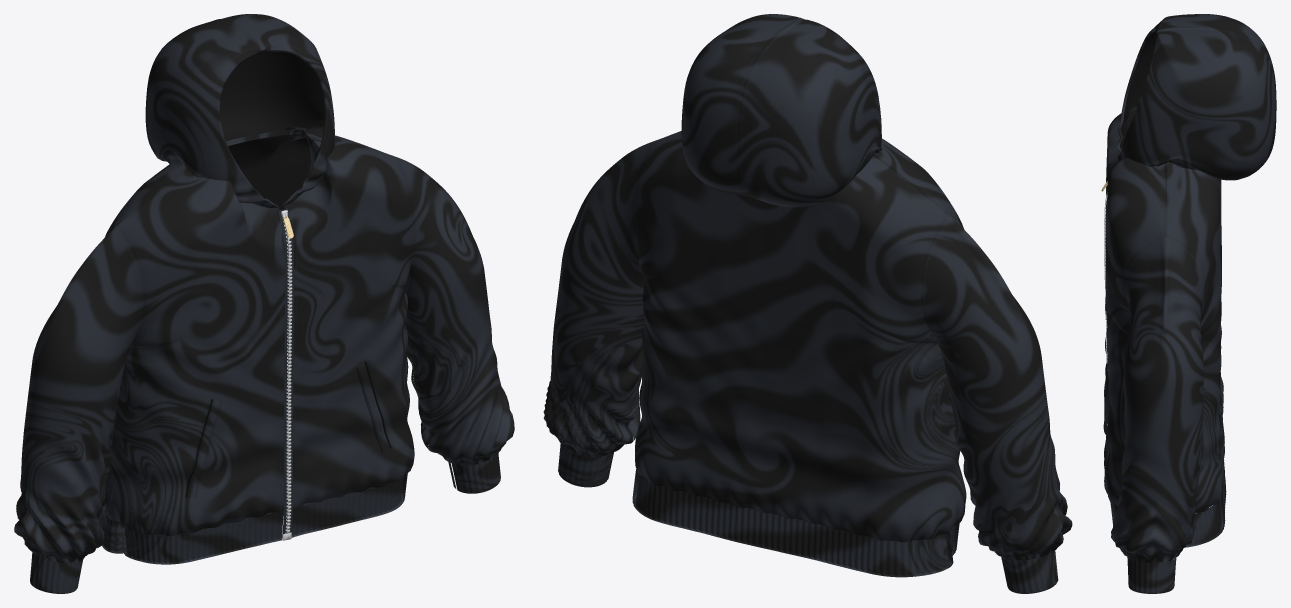
File: ressac-v2-noir-absolu.glb
The picture shows the model from 3 angles, left to right: view 1: azimuth 30°, elevation 25°; view 2: azimuth 150°, elevation 25°; view 3: azimuth 270°, elevation 25°; orthographic projection. The views are drawn at different scales.
Visible parts, largest first — view 1: Panel_Right, Panel_Left, Sleeve_Right, Sleeve_Left, Hood_Outer, Hem, Hood_Inner, Body_Back, Zip_Teeth_Right, Zip_Teeth_Left, Cuff_Right, Cuff_Left (+2 smaller); view 2: Body_Back, Hood_Outer, Sleeve_Right, Sleeve_Left, Hem, Panel_Right, Cuff_Right, Cuff_Left; view 3: Sleeve_Left, Hood_Outer, Panel_Left, Body_Back, Cuff_Left, Hem, Hood_Inner, Panel_Right, Pocket_Left, Zip_Teeth_Left.
Part boxes in pixels (x1=…): Panel_Right: x1=111, y1=170, x2=284, y2=535; Panel_Left: x1=282, y1=133, x2=414, y2=508; Sleeve_Right: x1=14, y1=225, x2=144, y2=562; Sleeve_Left: x1=397, y1=157, x2=514, y2=465; Hood_Outer: x1=145, y1=14, x2=335, y2=207; Hem: x1=102, y1=473, x2=407, y2=564; Hood_Inner: x1=220, y1=51, x2=324, y2=175; Body_Back: x1=103, y1=127, x2=381, y2=521; Zip_Teeth_Right: x1=278, y1=209, x2=291, y2=540; Zip_Teeth_Left: x1=283, y1=208, x2=294, y2=539; Cuff_Right: x1=30, y1=552, x2=83, y2=593; Cuff_Left: x1=448, y1=453, x2=500, y2=493; Body_Back: x1=634, y1=132, x2=955, y2=542; Hood_Outer: x1=681, y1=14, x2=882, y2=207; Sleeve_Right: x1=921, y1=214, x2=1072, y2=560; Sleeve_Left: x1=543, y1=142, x2=651, y2=457; Hem: x1=632, y1=469, x2=959, y2=577; Panel_Right: x1=873, y1=138, x2=966, y2=529; Cuff_Right: x1=1001, y1=550, x2=1058, y2=593; Cuff_Left: x1=558, y1=443, x2=613, y2=487; Sleeve_Left: x1=1111, y1=234, x2=1205, y2=562; Hood_Outer: x1=1116, y1=14, x2=1276, y2=180; Panel_Left: x1=1104, y1=157, x2=1166, y2=506; Body_Back: x1=1165, y1=162, x2=1224, y2=512; Cuff_Left: x1=1127, y1=557, x2=1176, y2=593; Hem: x1=1110, y1=423, x2=1226, y2=547; Hood_Inner: x1=1119, y1=30, x2=1168, y2=160; Panel_Right: x1=1103, y1=106, x2=1137, y2=435; Pocket_Left: x1=1105, y1=363, x2=1109, y2=462; Zip_Teeth_Left: x1=1104, y1=192, x2=1107, y2=425.
Bounding box in the file's own units: 0.9508 × 0.9165 × 0.3121.
Materials: 6 (1 with a texture image).
